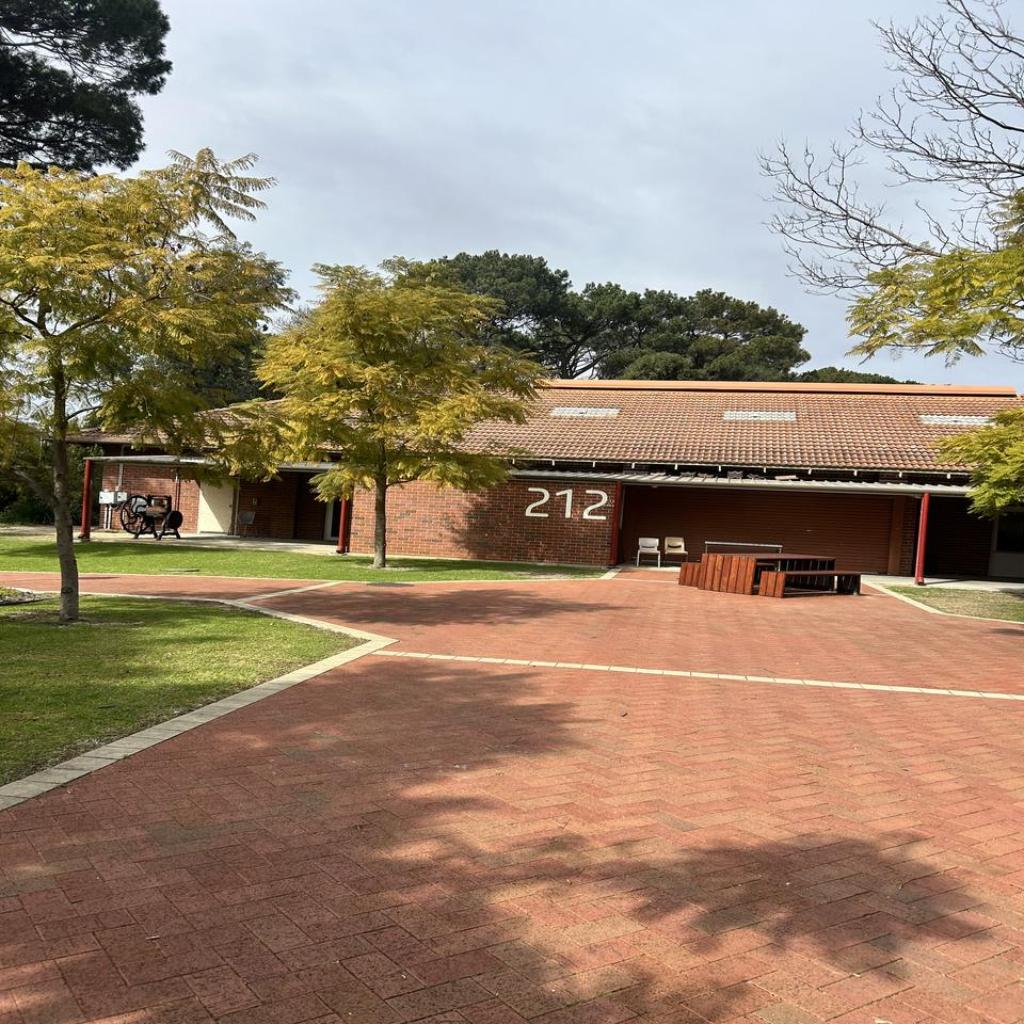BuildingCodes: (524, 486, 608, 522)
